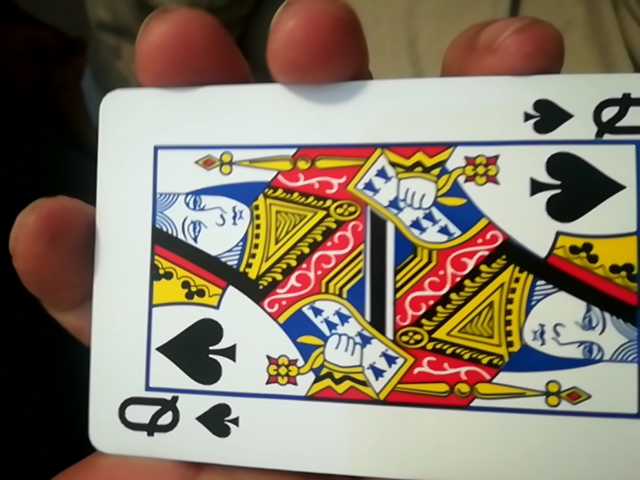ht q: (73, 74, 637, 479)
